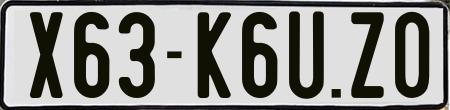0: (394, 10, 428, 98)
3: (118, 12, 158, 104)
6: (74, 10, 115, 96), (241, 11, 277, 98)
K: (196, 11, 232, 100)
U: (287, 11, 328, 103)
X: (30, 10, 64, 102)
Z: (351, 12, 386, 99)
